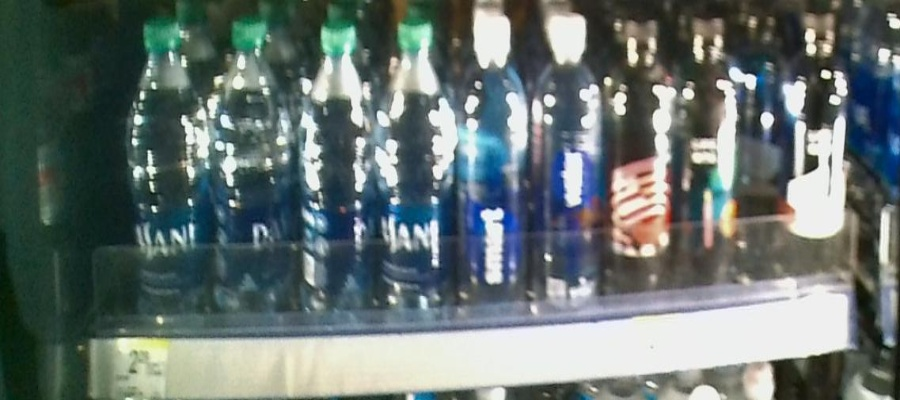bottle: (124, 20, 210, 328), (298, 12, 374, 327), (215, 18, 291, 332), (381, 7, 454, 332), (534, 11, 606, 337), (460, 5, 529, 330), (678, 7, 739, 313), (790, 10, 850, 302), (612, 21, 670, 318)
